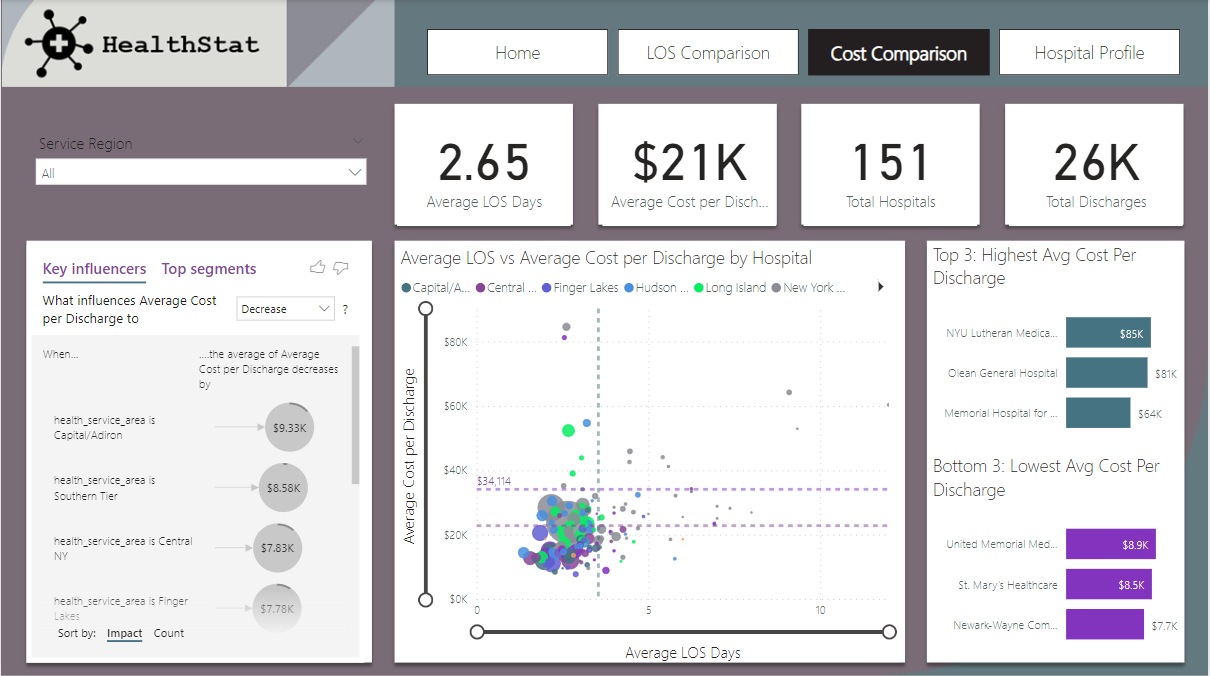

Layout of this report page (visuals, bound fields, positions):
{"tool":"powerbi","page":{"name":"Cost Comparison","canvas":[1280,720],"ordinal":2},"visuals":[{"type":"scatterChart","title":"Average LOS vs Average Cost per Discharge by Hospital","fields":{"X":["_Measures.Average LOS Days"],"Y":["_Measures.Average Cost per Discharge"],"Category":["hospital_discharges.facility_name"],"Size":["_Measures.Total Discharges"],"Series":["hospital_discharges.health_service_area"]},"box":[418.5,260.7,533.8,441.9],"z":0},{"type":"slicer","title":" ","fields":{"Values":["hospital_discharges.health_service_area"]},"box":[27,111.3,370.3,130.3],"z":1000},{"type":"keyDriversVisual","fields":{"ExplainBy":["hospital_discharges.apr_risk_of_mortality","hospital_discharges.apr_severity_of_illness_description","hospital_discharges.ccs_diagnosis_description","hospital_discharges.patient_disposition","hospital_discharges.gender","hospital_discharges.Age Bins","surgical_program_size_summary.Surgical Program Size","hospital_discharges.health_service_area"],"Target":["_Measures.Average Cost per Discharge"]},"box":[27.7,261.4,357.7,442.4],"z":2000},{"type":"clusteredBarChart","title":"Top 3: Highest Avg Cost Per Discharge","fields":{"Category":["hospital_discharges.facility_name"],"Y":["_Measures.Average Cost per Discharge"]},"box":[982.7,257,270.1,220.5],"z":3000},{"type":"clusteredBarChart","title":"Bottom 3: Lowest Avg Cost Per Discharge","fields":{"Category":["hospital_discharges.facility_name"],"Y":["_Measures.Average Cost per Discharge"]},"box":[982.7,481.9,270.1,220.5],"z":4000},{"type":"card","fields":{"Values":["_Measures.Average LOS Days"]},"box":[419.1,111,184,129],"z":5000},{"type":"card","fields":{"Values":["_Measures.Average Cost per Discharge"]},"box":[638.1,111,184,129],"z":6000},{"type":"card","fields":{"Values":["_Measures.Total Hospitals"]},"box":[849.8,111,184,129],"z":7000},{"type":"card","fields":{"Values":["_Measures.Total Discharges"]},"box":[1068.9,111,184,129],"z":8000},{"type":"pageNavigator","box":[452.1,31.4,800,49.9],"z":9000}]}

Visuals, with their boxes in screenshot pixels (x1, y1, x2, y2), scaled from the page's 1280x720 canvas onto the 1210x676 screenshot:
"Average LOS vs Average Cost per Discharge by Hospital" scatterChart: 396 245 900 660
" " slicer: 26 104 376 227
keyDriversVisual - hospital_discharges.apr_risk_of_mortality x hospital_discharges.apr_severity_of_illness_description: 26 245 364 661
"Top 3: Highest Avg Cost Per Discharge" clusteredBarChart: 929 241 1184 448
"Bottom 3: Lowest Avg Cost Per Discharge" clusteredBarChart: 929 452 1184 659
card - _Measures.Average LOS Days: 396 104 570 225
card - _Measures.Average Cost per Discharge: 603 104 777 225
card - _Measures.Total Hospitals: 803 104 977 225
card - _Measures.Total Discharges: 1010 104 1184 225
pageNavigator: 427 29 1184 76
